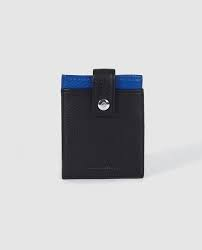monedero: (60, 68, 145, 179)
